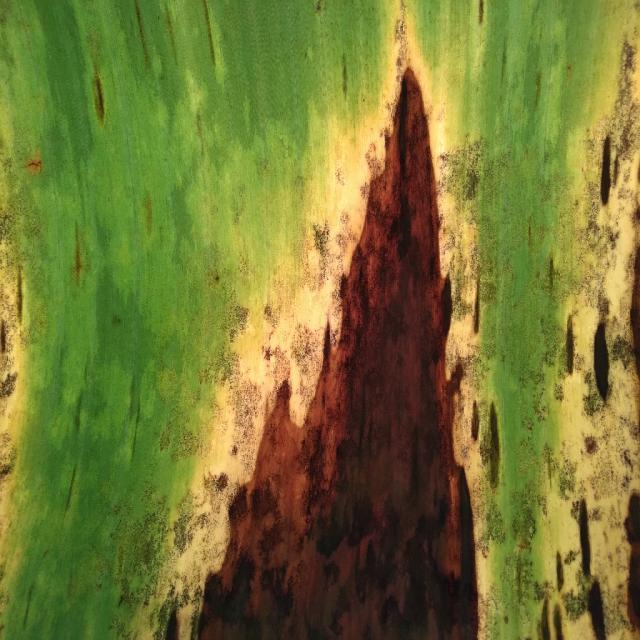Early_rust: (59, 0, 494, 640), (531, 25, 640, 640), (0, 147, 51, 640)
